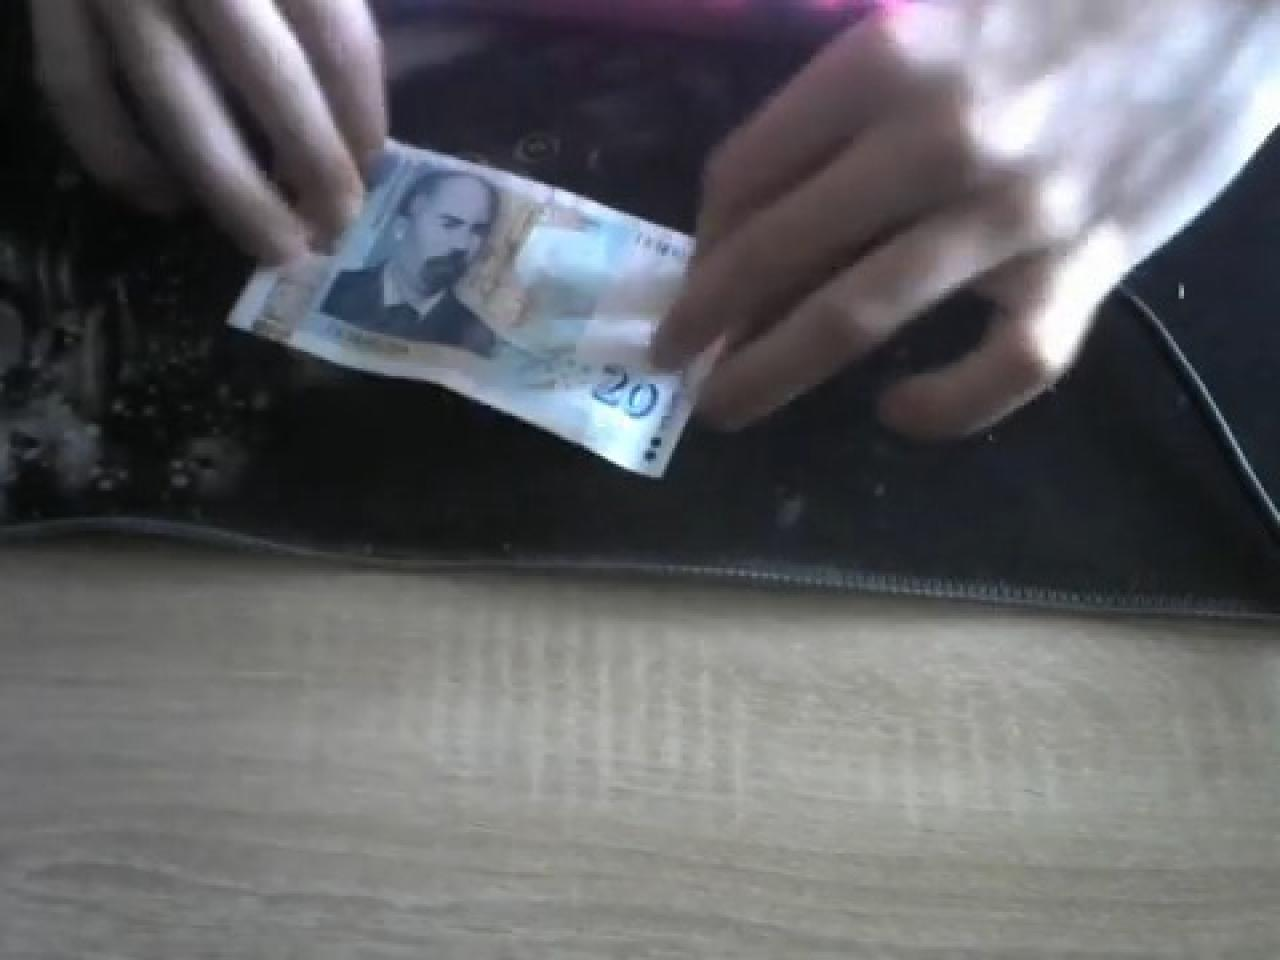20leva: (224, 136, 715, 480)
